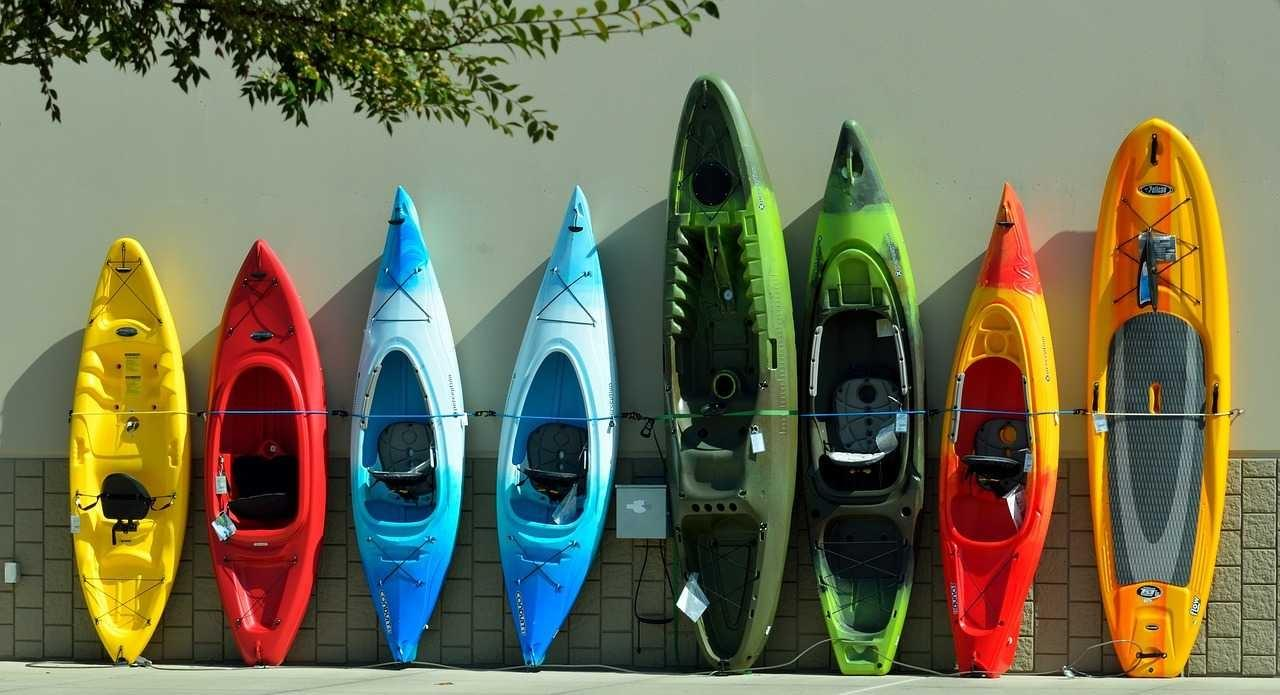kayak: (494, 183, 619, 671), (348, 183, 468, 666), (203, 238, 328, 671), (68, 236, 192, 668)
